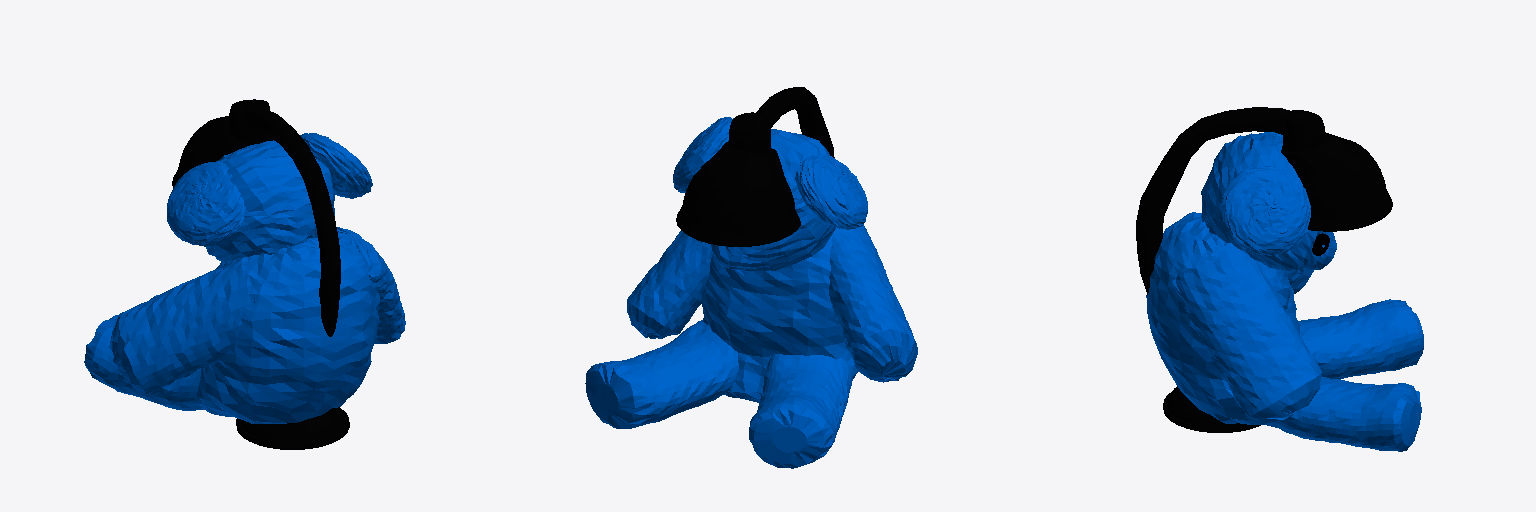
Rendered from blueno.obj.
3 views of the same model, side by side, from view 1: azimuth 30°, elevation 25°; view 2: azimuth 150°, elevation 25°; view 3: azimuth 270°, elevation 25° (orthographic).
Parts seen in each view (by area): view 1: body_Sphere.003, right_arm_Cylinder.008, head_Sphere.006, arm_Cylinder.004, right_ear_Sphere.008, right_leg_Cylinder.003, left_arm_Cylinder.007, left_ear_Sphere.007, shade_Sphere.001, base.001_Sphere, lil_connector_thing_Cylinder.006, base_Cylinder; view 2: body_Sphere.003, left_leg_Cylinder.005, shade_Sphere.001, right_leg_Cylinder.003, right_arm_Cylinder.008, left_arm_Cylinder.007, head_Sphere.006, right_ear_Sphere.008, arm_Cylinder.004, left_ear_Sphere.007, lil_connector_thing_Cylinder.006; view 3: left_arm_Cylinder.007, body_Sphere.003, left_leg_Cylinder.005, right_leg_Cylinder.003, shade_Sphere.001, left_ear_Sphere.007, arm_Cylinder.004, head_Sphere.006, lil_connector_thing_Cylinder.006, base.001_Sphere, base_Cylinder.
Boxes of the visible parts, x1=… form: body_Sphere.003: x1=197, y1=236, x2=379, y2=423; right_arm_Cylinder.008: x1=109, y1=257, x2=256, y2=393; head_Sphere.006: x1=206, y1=140, x2=335, y2=261; arm_Cylinder.004: x1=243, y1=105, x2=340, y2=336; right_ear_Sphere.008: x1=167, y1=161, x2=245, y2=246; right_leg_Cylinder.003: x1=84, y1=315, x2=204, y2=410; left_arm_Cylinder.007: x1=337, y1=227, x2=405, y2=343; left_ear_Sphere.007: x1=300, y1=133, x2=372, y2=198; shade_Sphere.001: x1=172, y1=116, x2=274, y2=187; base.001_Sphere: x1=240, y1=407, x2=345, y2=442; lil_connector_thing_Cylinder.006: x1=229, y1=99, x2=269, y2=142; base_Cylinder: x1=236, y1=409, x2=349, y2=449; body_Sphere.003: x1=701, y1=224, x2=870, y2=402; left_leg_Cylinder.005: x1=585, y1=320, x2=738, y2=428; shade_Sphere.001: x1=676, y1=141, x2=800, y2=246; right_leg_Cylinder.003: x1=749, y1=354, x2=852, y2=468; right_arm_Cylinder.008: x1=829, y1=226, x2=917, y2=382; left_arm_Cylinder.007: x1=627, y1=231, x2=712, y2=338; head_Sphere.006: x1=710, y1=129, x2=835, y2=271; right_ear_Sphere.008: x1=795, y1=154, x2=867, y2=229; arm_Cylinder.004: x1=750, y1=87, x2=834, y2=157; left_ear_Sphere.007: x1=673, y1=117, x2=733, y2=192; lil_connector_thing_Cylinder.006: x1=729, y1=112, x2=770, y2=152; left_arm_Cylinder.007: x1=1172, y1=243, x2=1321, y2=423; body_Sphere.003: x1=1146, y1=212, x2=1299, y2=425; left_leg_Cylinder.005: x1=1267, y1=377, x2=1421, y2=451; right_leg_Cylinder.003: x1=1298, y1=299, x2=1423, y2=378; shade_Sphere.001: x1=1281, y1=132, x2=1392, y2=231; left_ear_Sphere.007: x1=1221, y1=166, x2=1310, y2=255; arm_Cylinder.004: x1=1136, y1=107, x2=1305, y2=294; head_Sphere.006: x1=1201, y1=133, x2=1336, y2=273; lil_connector_thing_Cylinder.006: x1=1283, y1=110, x2=1324, y2=151; base.001_Sphere: x1=1167, y1=386, x2=1240, y2=425; base_Cylinder: x1=1163, y1=392, x2=1260, y2=432.
Size of the model in its own units: 28.54 by 29.22 by 25.46.